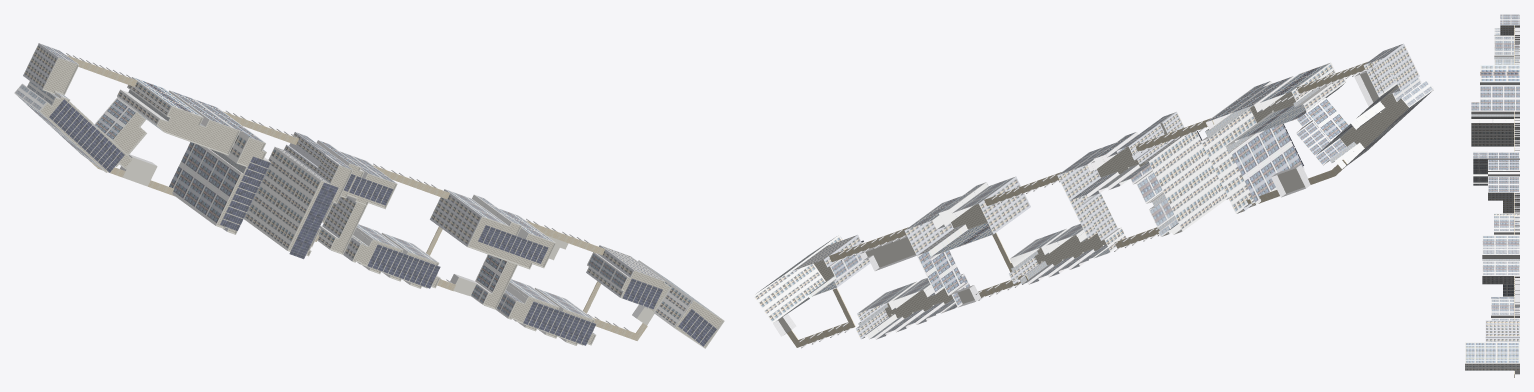
3 renders of one model, left to right at view 1: azimuth 30°, elevation 25°; view 2: azimuth 150°, elevation 25°; view 3: azimuth 270°, elevation 25°, orthographic. The views are drawn at different scales.
Visible parts, largest first — view 1: 1学生宿舍2.2, 太阳能板, 1连廊, 1学生宿舍1.002; view 2: 1学生宿舍2.2, 1连廊, 1学生宿舍1.002, 1连廊支撑; view 3: 1学生宿舍2.2, 1连廊支撑, 1学生宿舍1.002, 1连廊.
Part boxes in pixels (x1,y1,x2,y2): 1学生宿舍2.2: (14,43,724,348); 太阳能板: (49,99,716,346); 1连廊: (66,55,647,340); 1学生宿舍1.002: (120,154,654,325); 1学生宿舍2.2: (753,43,1434,339); 1连廊: (787,62,1372,347); 1学生宿舍1.002: (773,68,1384,336); 1连廊支撑: (798,64,1378,348); 1学生宿舍2.2: (1465,14,1519,370); 1连廊支撑: (1514,27,1519,372); 1学生宿舍1.002: (1515,28,1519,374); 1连廊: (1514,25,1514,377).
Bounding box in the file's own units: 430 × 275 × 64.39.
12 materials, 10 textured.
